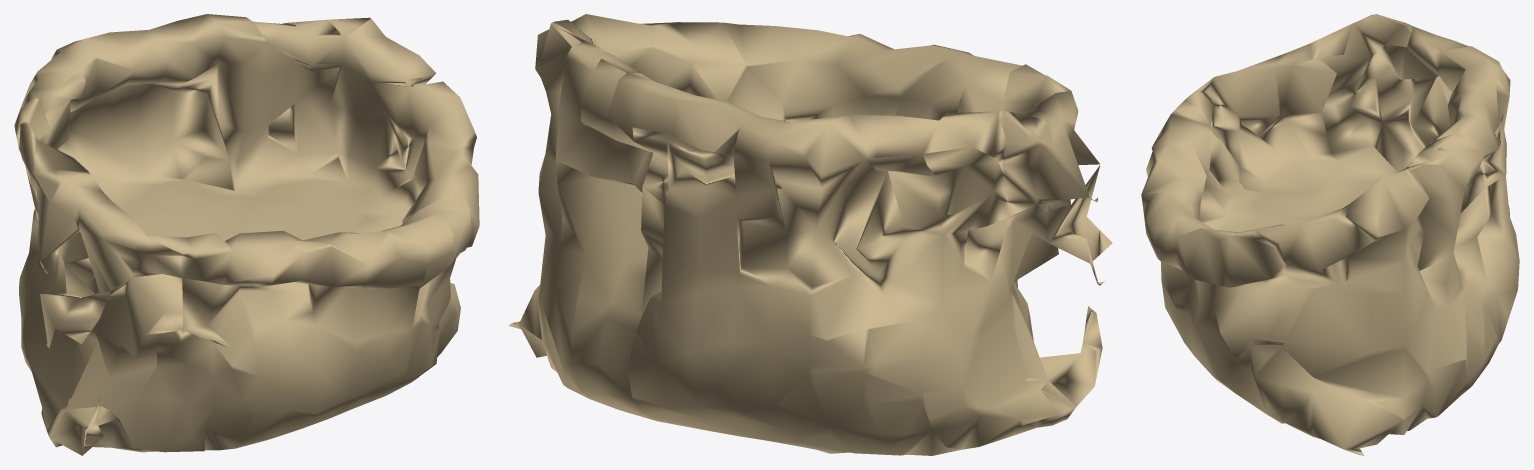
Rendered from wheat_bowl.glb.
3 views of the same model, side by side, from view 1: azimuth 30°, elevation 25°; view 2: azimuth 150°, elevation 25°; view 3: azimuth 270°, elevation 25° (orthographic). The views are drawn at different scales.
Visible parts, largest first — view 1: wheat_bowl; view 2: wheat_bowl; view 3: wheat_bowl.
Boxes of the visible parts, x1,y1,x2,y2 form: wheat_bowl: (14, 14, 479, 455); wheat_bowl: (508, 14, 1112, 455); wheat_bowl: (1141, 14, 1519, 455).
Bounding box in the file's own units: 63.99 × 40.16 × 51.51.
